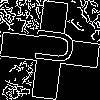U: (25, 25, 75, 67)
